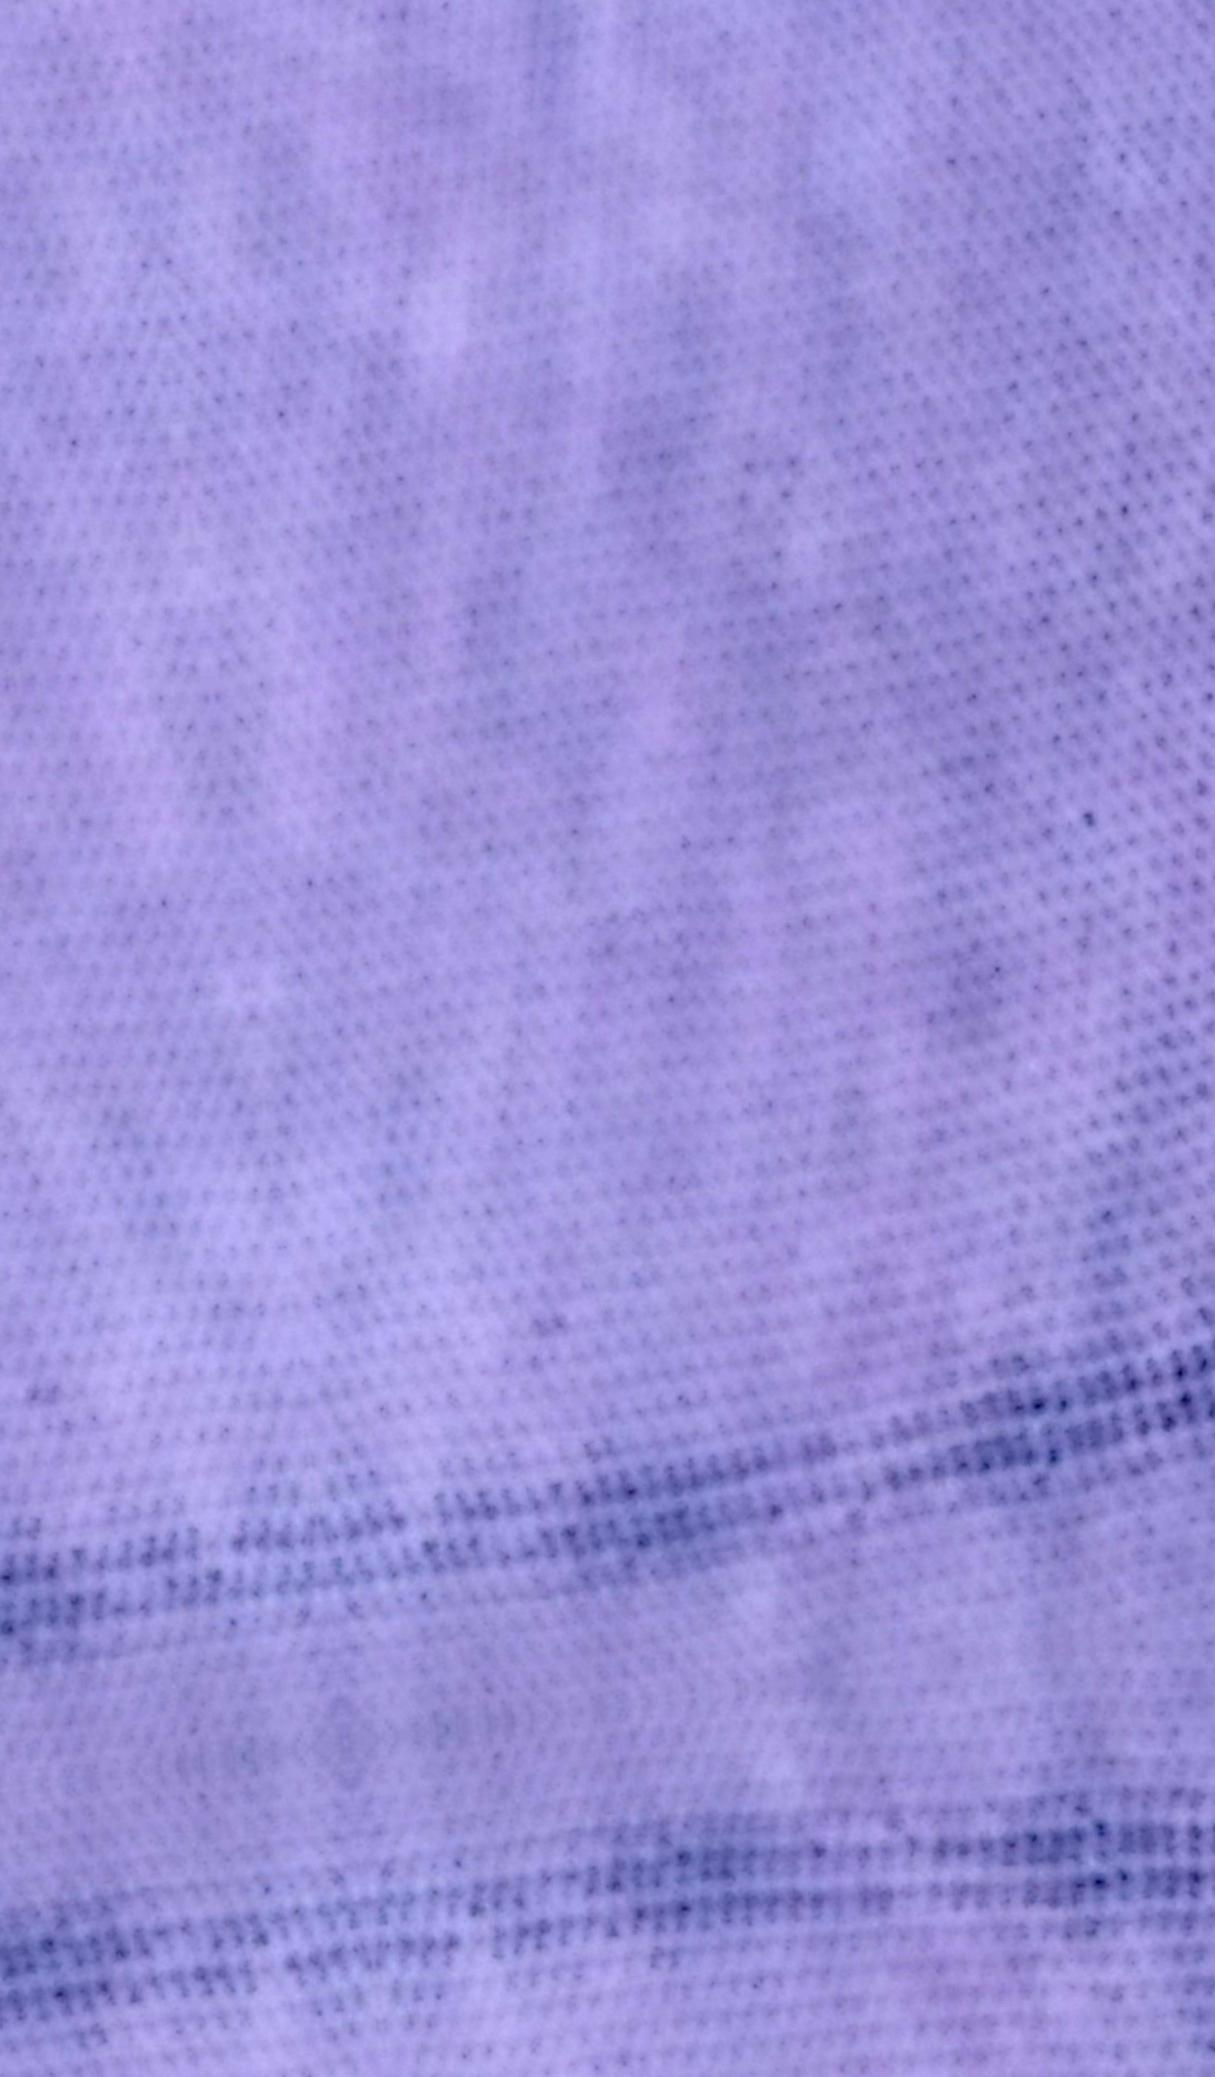slub: (0, 1310, 1206, 1676), (9, 1798, 1215, 2039)
